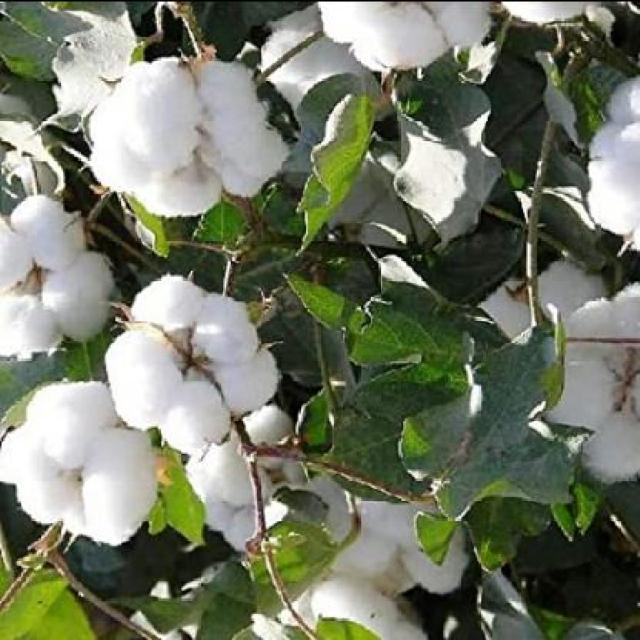cotton_ready: (72, 52, 285, 228), (114, 266, 301, 463), (2, 372, 162, 568), (532, 250, 639, 504), (1, 200, 117, 357)
